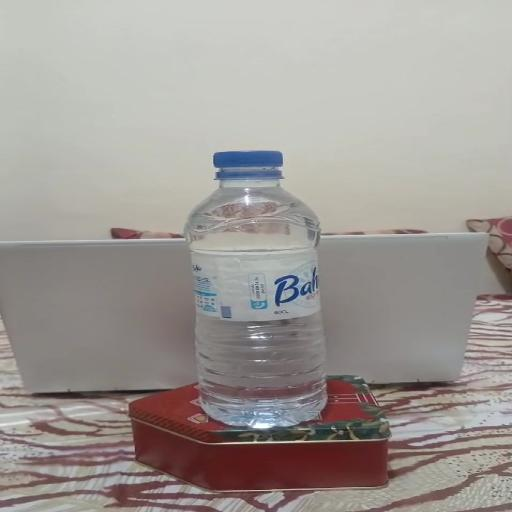bouteille non conformite: (166, 145, 347, 428)
